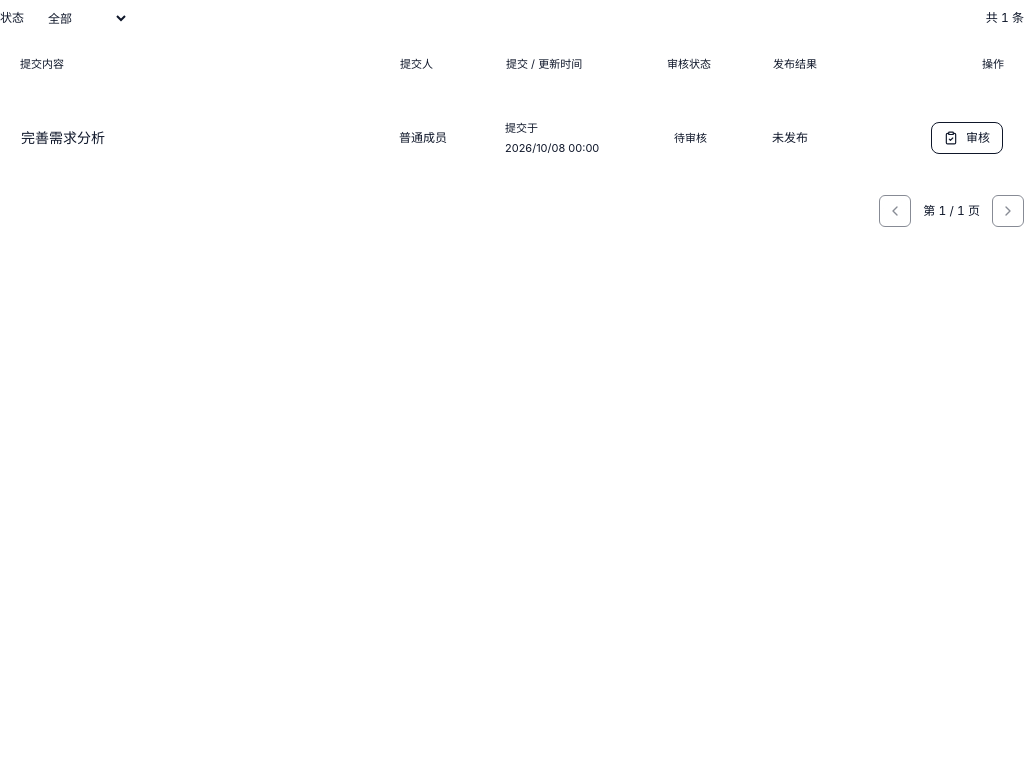
Test: 提交与审核 › 处理记录展示真实审核人意见，发布版本为可定位链接而非ID
Click the button "审核".
click(967, 138)  # box top-left (931, 122), bottom-right (1003, 154)
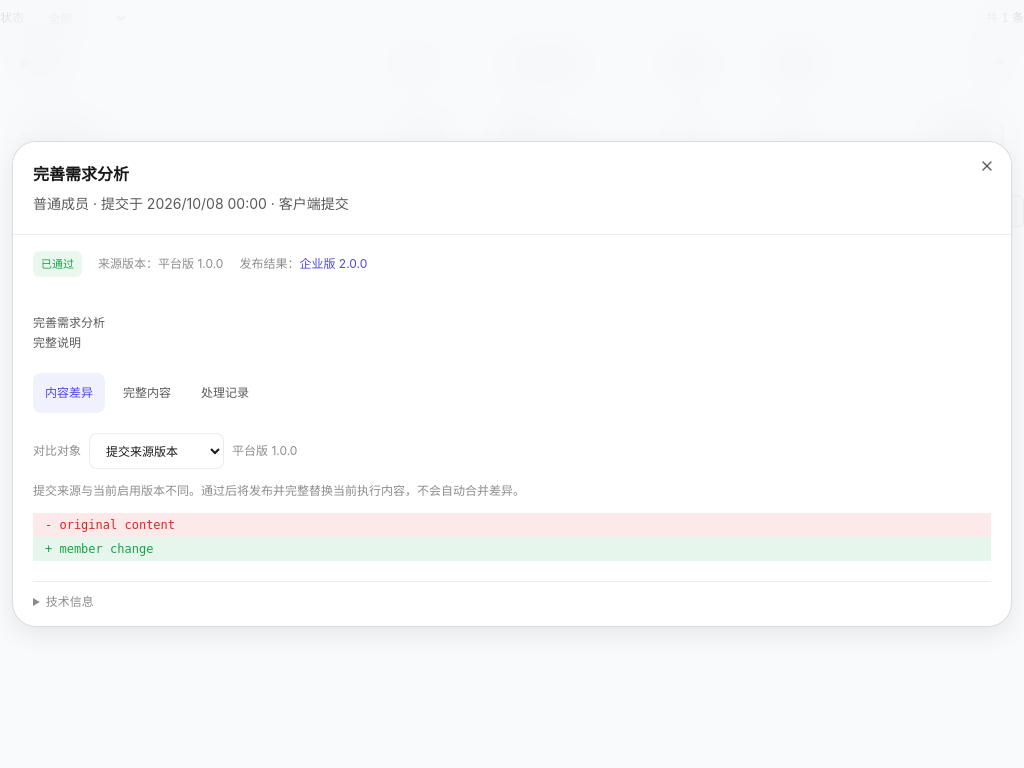
Press the mouse on the tab "处理记录" at (225, 393), box top-left (189, 373), bottom-right (261, 413)
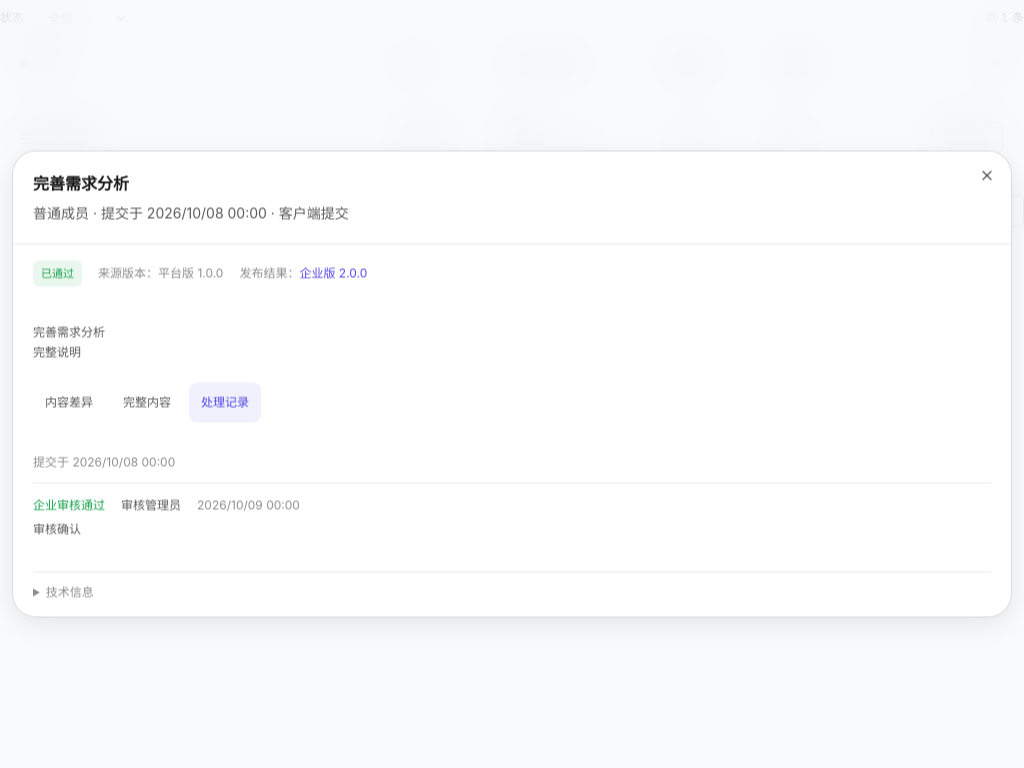
Expected: the text "审核管理员" is shown, top-left (121, 496), bottom-right (181, 516)
Expected: the text "审核确认" is shown, top-left (33, 522), bottom-right (81, 536)
